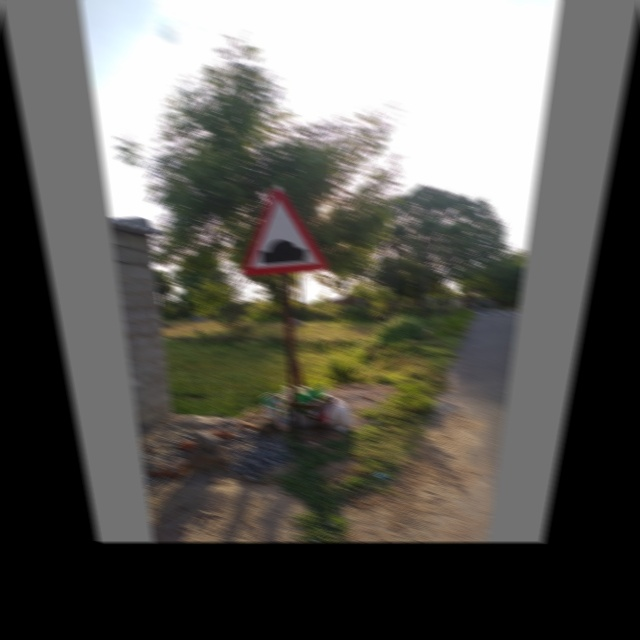Hump_or_Rough_Road: (241, 187, 327, 276)
